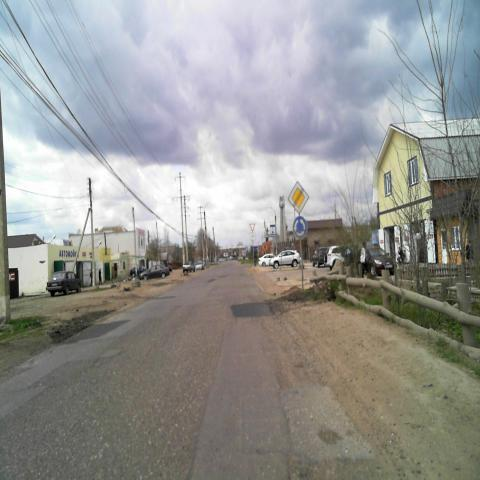4_3: (293, 216, 307, 240)
